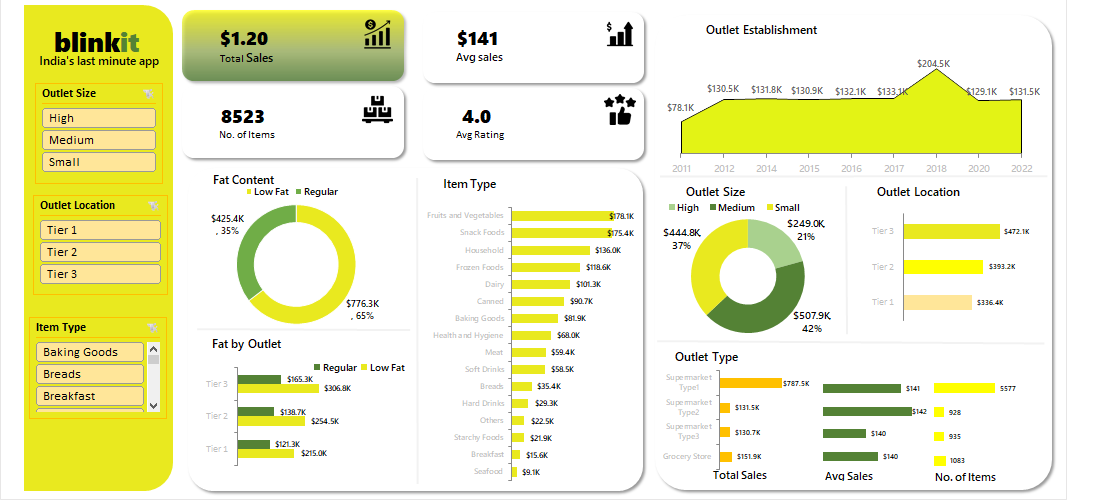

This screenshot's page, from the dashboard's own definition file:
{"tool":"powerbi","page":{"name":"Page 1","canvas":[1400,800],"ordinal":0},"visuals":[{"type":"shape","box":[0,23.6,206.3,776.4],"z":0},{"type":"textbox","box":[11,39.4,173.2,75.6],"z":1000},{"type":"textbox","box":[4.7,97.6,185.8,33.1],"z":2000},{"type":"cardVisual","fields":{"Data":["BlinkIT Grocery Data.Total_Sales","BlinkIT Grocery Data.Avg_Sales","BlinkIT Grocery Data.No of items","BlinkIT Grocery Data.Average Rating"]},"box":[206.3,23.6,519.7,274],"z":3000},{"type":"shape","box":[206.3,283.5,519.7,516.5],"z":4000},{"type":"donutChart","title":"Fat Content","fields":{"Y":["BlinkIT Grocery Data.Avg_Sales"],"Category":["BlinkIT Grocery Data.Item Fat Content"]},"box":[220.5,351.2,220.5,229.9],"z":5000},{"type":"slicer","fields":{"Values":["Metrics.Metrics"]},"box":[198.4,297.6,535.4,36.2],"z":6000},{"type":"cardVisual","fields":{"Data":["BlinkIT Grocery Data.Avg_Sales"]},"box":[286.6,448.8,92.9,66.1],"z":7000},{"type":"clusteredBarChart","title":"FAT BY OUTLET","fields":{"Y":["BlinkIT Grocery Data.Avg_Sales"],"Category":["BlinkIT Grocery Data.Outlet Location Type"],"Series":["BlinkIT Grocery Data.Item Fat Content"]},"box":[220.5,570.1,220.5,229.9],"z":8000},{"type":"shape","box":[220.5,549.6,226.8,31.5],"z":9000},{"type":"shape","box":[440.9,332.3,11,466.1],"z":10000},{"type":"barChart","title":"ITEM TYPE","fields":{"Y":["BlinkIT Grocery Data.Avg_Sales"],"Category":["BlinkIT Grocery Data.Item Type"]},"box":[447.2,332.3,264.6,466.1],"z":11000},{"type":"shape","box":[733.9,29.9,666.1,765.4],"z":12000},{"type":"lineChart","title":"OUTLET ESTABLISHMENT","fields":{"Category":["BlinkIT Grocery Data.Outlet Establishment Year"],"Y":["BlinkIT Grocery Data.Total_Sales"]},"box":[751.2,63,633.1,220.5],"z":13000},{"type":"shape","box":[741.7,283.5,650.4,31.5],"z":14000},{"type":"donutChart","title":"OUTLET SIZE","fields":{"Y":["BlinkIT Grocery Data.Total_Sales"],"Category":["BlinkIT Grocery Data.Outlet Size"]},"box":[763.8,315,275.6,225.2],"z":15000},{"type":"shape","box":[1039.4,299.2,15.7,250.4],"z":16000},{"type":"funnel","title":"OUTLET LOCATION","fields":{"Y":["Sum(BlinkIT Grocery Data.Sales)"],"Category":["BlinkIT Grocery Data.Outlet Location Type"]},"box":[1055.1,310.2,316.5,229.9],"z":17000},{"type":"shape","box":[741.7,533.9,650.4,31.5],"z":18000},{"type":"pivotTable","title":"OUTLET TYPE","fields":{"Rows":["BlinkIT Grocery Data.Outlet Type"],"Values":["BlinkIT Grocery Data.Total_Sales","BlinkIT Grocery Data.No of items","BlinkIT Grocery Data.Avg_Sales","BlinkIT Grocery Data.Average Rating","Sum(BlinkIT Grocery Data.Item Visibility)"]},"box":[744.9,570.1,647.2,187.4],"z":19000},{"type":"slicer","fields":{"Values":["BlinkIT Grocery Data.Outlet Location Type"]},"box":[22,233.1,176.4,64.6],"z":20000},{"type":"slicer","fields":{"Values":["BlinkIT Grocery Data.Outlet Size"]},"box":[22,318.1,176.4,64.6],"z":21000},{"type":"slicer","fields":{"Values":["BlinkIT Grocery Data.Item Type"]},"box":[20.5,401.6,176.4,64.6],"z":22000},{"type":"textbox","box":[45.7,190.6,115,31.5],"z":23000}]}

Visuals, with their boxes on the page's 1400x800 design canvas (x1, y1, x2, y2). These are canvas units, not pixel positions in the 1108x501 screenshot, which may show the page scaled, cropped or inside an application window:
shape: bbox=(0, 24, 206, 800)
textbox: bbox=(11, 39, 184, 115)
textbox: bbox=(5, 98, 190, 131)
cardVisual - BlinkIT Grocery Data.Total_Sales x BlinkIT Grocery Data.Avg_Sales: bbox=(206, 24, 726, 298)
shape: bbox=(206, 284, 726, 800)
"Fat Content" donutChart: bbox=(220, 351, 441, 581)
slicer - Metrics.Metrics: bbox=(198, 298, 734, 334)
cardVisual - BlinkIT Grocery Data.Avg_Sales: bbox=(287, 449, 380, 515)
"FAT BY OUTLET" clusteredBarChart: bbox=(220, 570, 441, 800)
shape: bbox=(220, 550, 447, 581)
shape: bbox=(441, 332, 452, 798)
"ITEM TYPE" barChart: bbox=(447, 332, 712, 798)
shape: bbox=(734, 30, 1400, 795)
"OUTLET ESTABLISHMENT" lineChart: bbox=(751, 63, 1384, 284)
shape: bbox=(742, 284, 1392, 315)
"OUTLET SIZE" donutChart: bbox=(764, 315, 1039, 540)
shape: bbox=(1039, 299, 1055, 550)
"OUTLET LOCATION" funnel: bbox=(1055, 310, 1372, 540)
shape: bbox=(742, 534, 1392, 565)
"OUTLET TYPE" pivotTable: bbox=(745, 570, 1392, 758)
slicer - BlinkIT Grocery Data.Outlet Location Type: bbox=(22, 233, 198, 298)
slicer - BlinkIT Grocery Data.Outlet Size: bbox=(22, 318, 198, 383)
slicer - BlinkIT Grocery Data.Item Type: bbox=(20, 402, 197, 466)
textbox: bbox=(46, 191, 161, 222)
